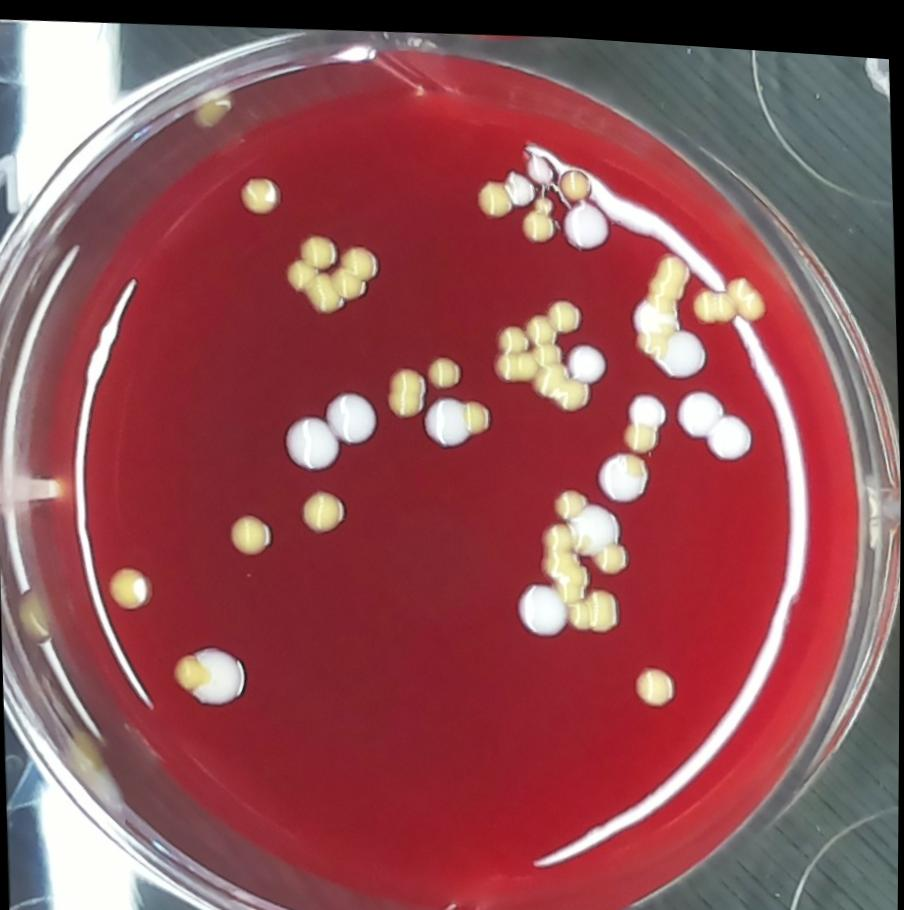staphylo-: (282, 225, 384, 313), (537, 512, 591, 598), (533, 349, 596, 408), (295, 480, 352, 537), (101, 555, 156, 612), (525, 287, 585, 339), (626, 653, 683, 705), (224, 502, 278, 555), (383, 354, 429, 415), (569, 577, 620, 631), (645, 238, 691, 293), (726, 262, 770, 317), (519, 183, 561, 240), (235, 166, 282, 214), (168, 645, 215, 692), (689, 272, 737, 315), (424, 343, 466, 388), (474, 168, 514, 214), (489, 340, 540, 376), (591, 531, 632, 569), (622, 410, 663, 448), (457, 390, 495, 430), (550, 476, 588, 513), (556, 156, 591, 194), (492, 315, 530, 349), (632, 322, 669, 350)
